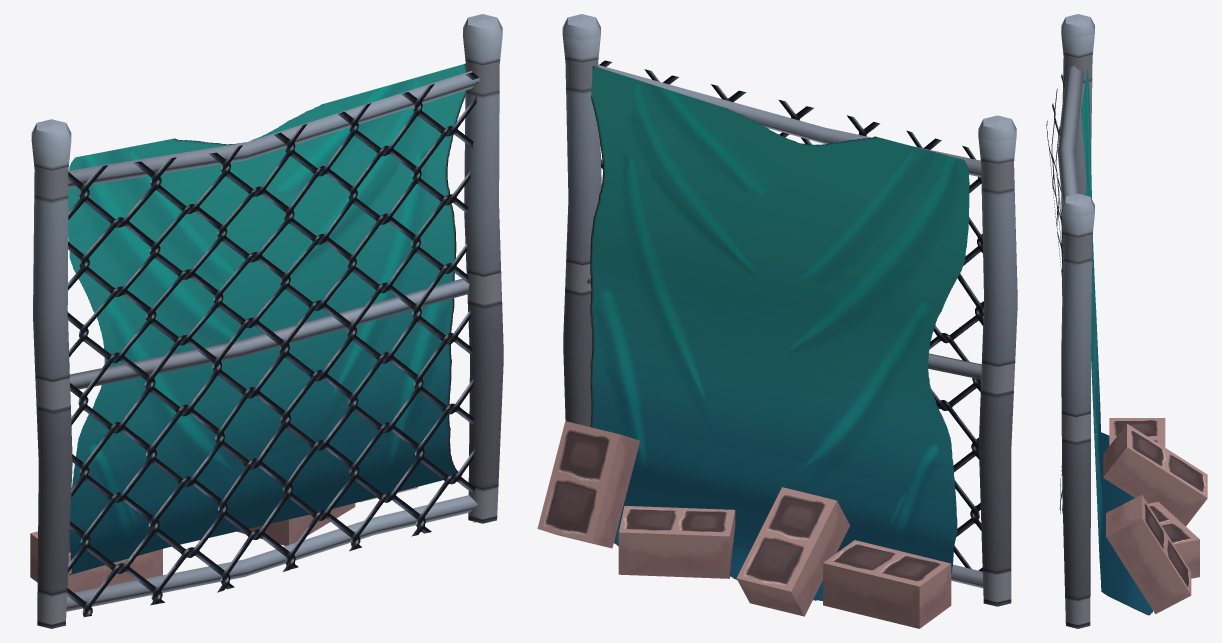
Rendered from fence_metal_b.gltf.
3 renders of one model, left to right at view 1: azimuth 30°, elevation 25°; view 2: azimuth 150°, elevation 25°; view 3: azimuth 270°, elevation 25°, orthographic. The views are drawn at different scales.
Parts seen in each view (by area): view 1: fence_metal_B; view 2: fence_metal_B; view 3: fence_metal_B.
Part boxes in pixels (box(x1,y1,x2,y2)): fence_metal_B: box(30, 14, 503, 628); fence_metal_B: box(537, 14, 1017, 628); fence_metal_B: box(1046, 14, 1207, 628).
Size of the model in its own units: 2.05 by 2.09 by 0.7129.
1 material, 1 textured.
